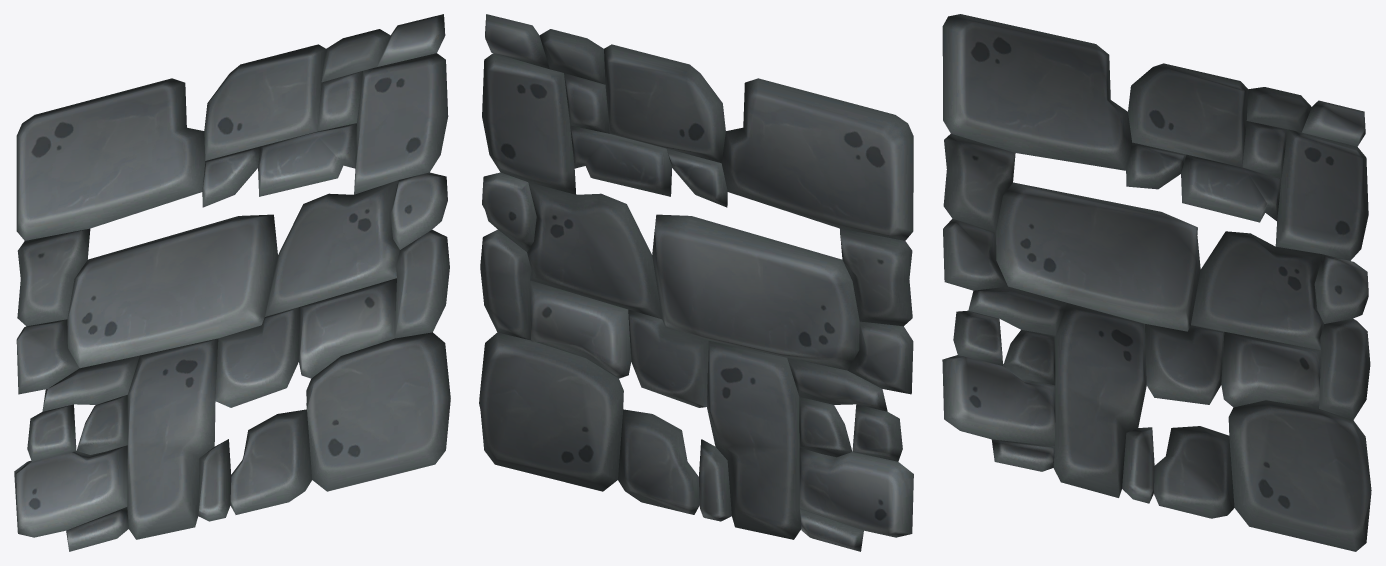
The model's file is RockPathTile.fbx.
3 views of the same model, side by side, from view 1: azimuth 30°, elevation 25°; view 2: azimuth 150°, elevation 25°; view 3: azimuth 330°, elevation 25° (orthographic).
Visible parts, largest first — view 1: RockPathTile; view 2: RockPathTile; view 3: RockPathTile.
Part boxes in pixels (<box>): RockPathTile: <box>14,14,450,551</box>; RockPathTile: <box>479,14,913,551</box>; RockPathTile: <box>942,14,1371,551</box>.
Size of the model in its own units: 203 by 203 by 7.05.
